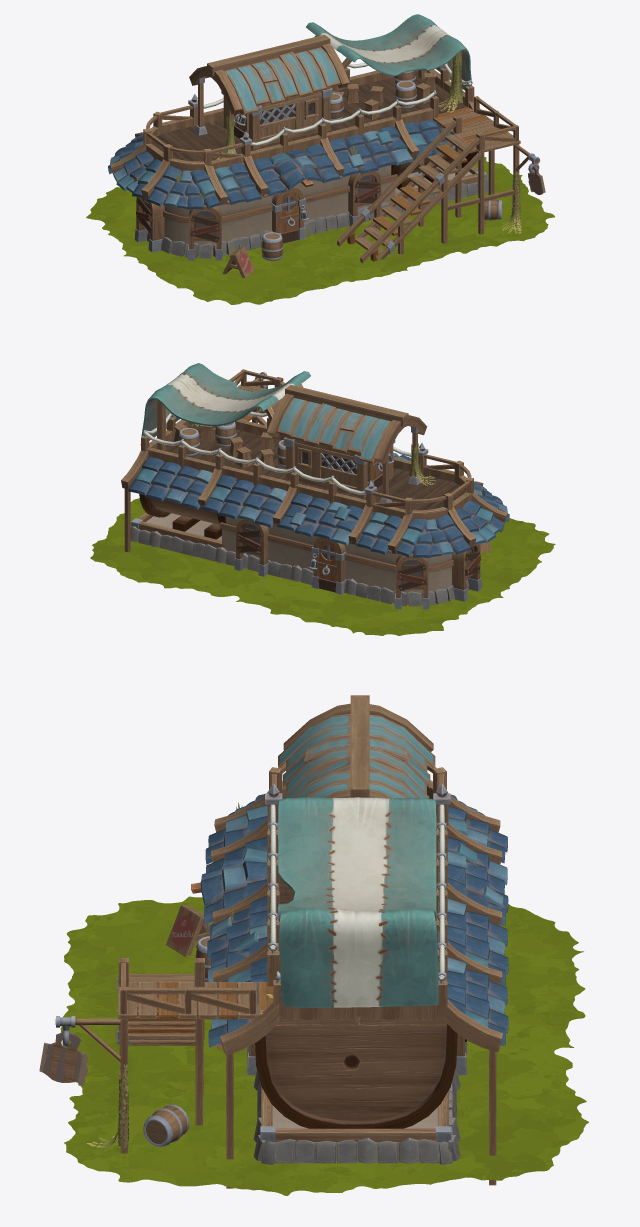
3 renders of one model, top to bottom at view 1: azimuth 30°, elevation 25°; view 2: azimuth 150°, elevation 25°; view 3: azimuth 270°, elevation 25°, orthographic. The views are drawn at different scales.
Visible parts, largest first — view 1: Plane.150_TileSet1_0, Plane.001_Ground_0, Plane.150_TileSet2_0, Plane.150_TileSet3_0, Plane.150_TileSet5_0, Plane.150_TileSet6_0, Plane.150_TileSet4_0, Plane.150_Plants_0; view 2: Plane.001_Ground_0, Plane.150_TileSet3_0, Plane.150_TileSet2_0, Plane.150_TileSet5_0, Plane.150_TileSet6_0, Plane.150_TileSet1_0, Plane.150_TileSet4_0, Plane.150_Plants_0; view 3: Plane.001_Ground_0, Plane.150_TileSet4_0, Plane.150_TileSet3_0, Plane.150_TileSet2_0, Plane.150_TileSet1_0, Plane.150_TileSet5_0, Plane.150_TileSet6_0, Circle.008_TileSet1_0, Plane.150_Plants_0.
Part boxes in pixels (x1,y1,x2,y2): Plane.150_TileSet1_0: (134,71,540,263); Plane.001_Ground_0: (86,157,554,304); Plane.150_TileSet2_0: (110,63,502,278); Plane.150_TileSet3_0: (108,120,455,209); Plane.150_TileSet5_0: (189,35,351,153); Plane.150_TileSet6_0: (147,90,488,258); Plane.150_TileSet4_0: (143,14,477,189); Plane.150_Plants_0: (133,51,521,260); Plane.001_Ground_0: (90,498,555,635); Plane.150_TileSet3_0: (128,453,509,558); Plane.150_TileSet2_0: (121,411,507,594); Plane.150_TileSet5_0: (265,383,427,502); Plane.150_TileSet6_0: (130,450,468,606); Plane.150_TileSet1_0: (124,369,481,609); Plane.150_TileSet4_0: (139,363,473,539); Plane.150_Plants_0: (189,422,488,526); Plane.001_Ground_0: (60,896,588,1195); Plane.150_TileSet4_0: (255,763,457,1128); Plane.150_TileSet3_0: (191,794,508,1049); Plane.150_TileSet2_0: (143,792,503,1146); Plane.150_TileSet1_0: (55,773,496,1188); Plane.150_TileSet5_0: (278,695,435,798); Plane.150_TileSet6_0: (253,1066,460,1164); Circle.008_TileSet1_0: (39,1032,87,1085); Plane.150_Plants_0: (86,802,273,1150).
Size of the model in its own units: 890 by 364 by 677.
